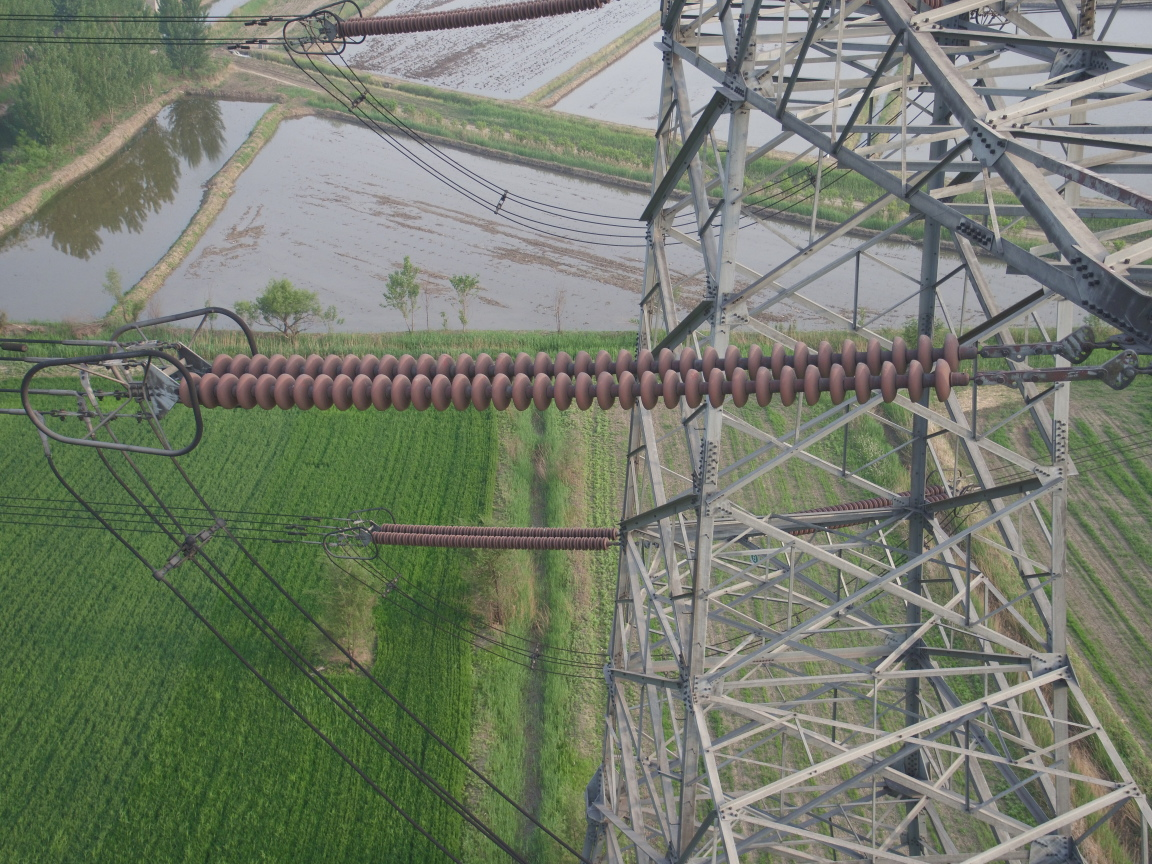insulator: (167, 331, 1031, 412), (326, 1, 606, 42), (367, 522, 621, 551)
